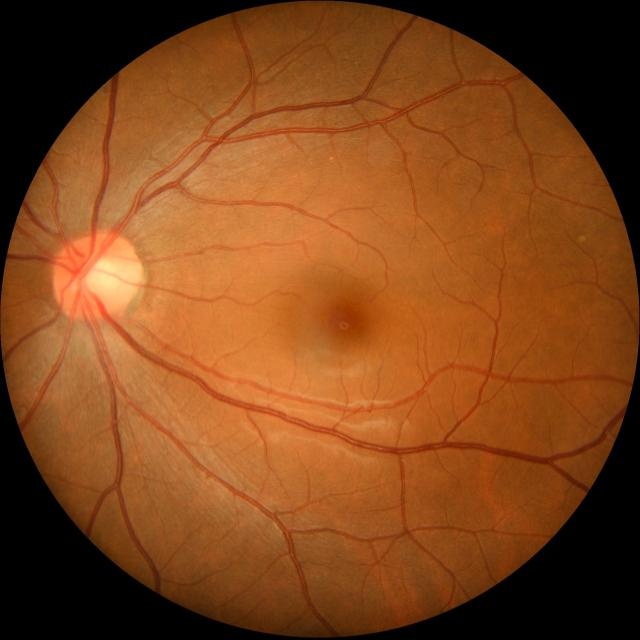OC: (84, 258, 122, 296)
OD: (52, 230, 141, 322)
